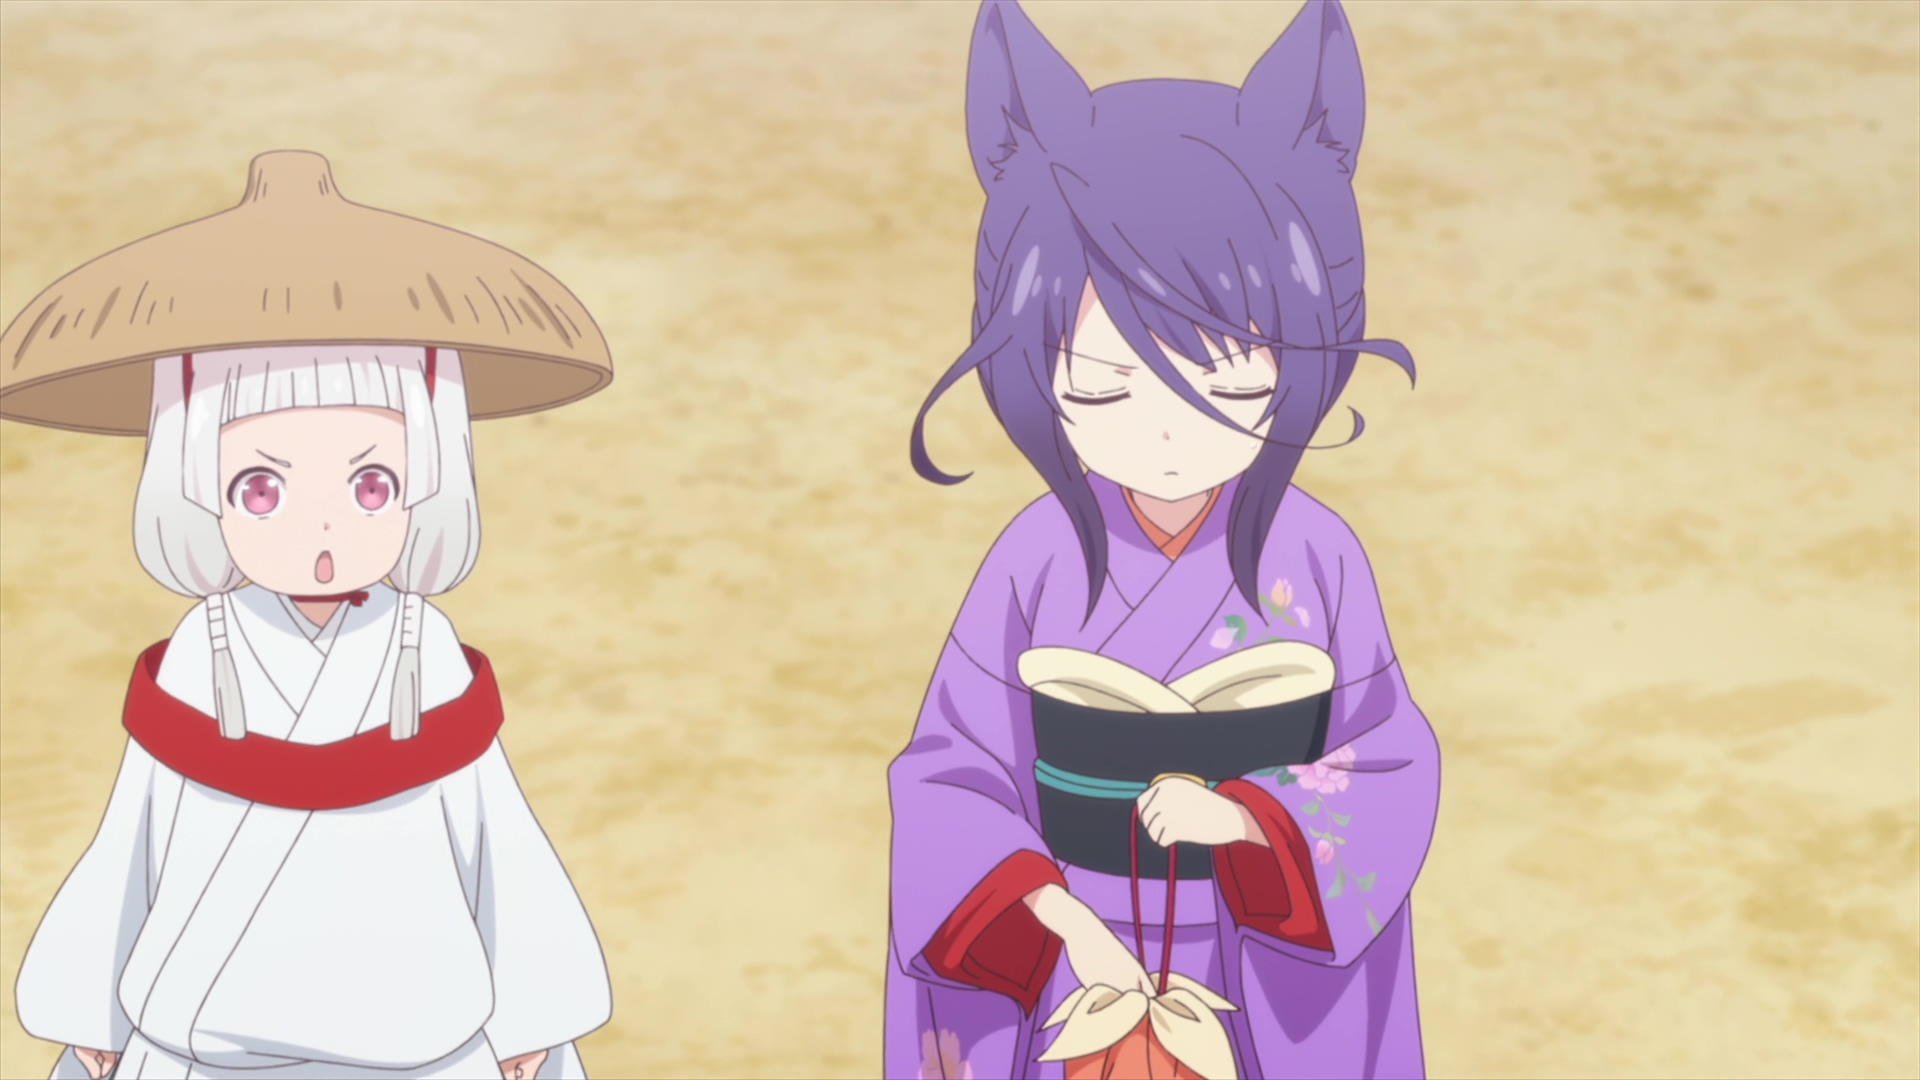其他: (1, 149, 615, 1080)
皋: (884, 1, 1443, 1080)
